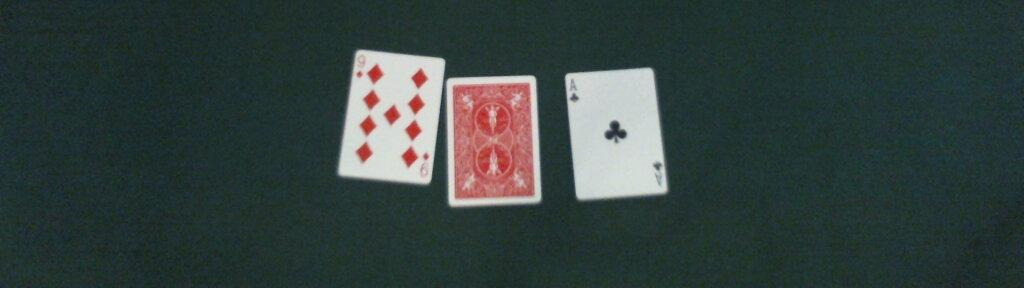ace: (563, 68, 668, 200)
back: (444, 74, 543, 206)
nine: (335, 47, 446, 186)
